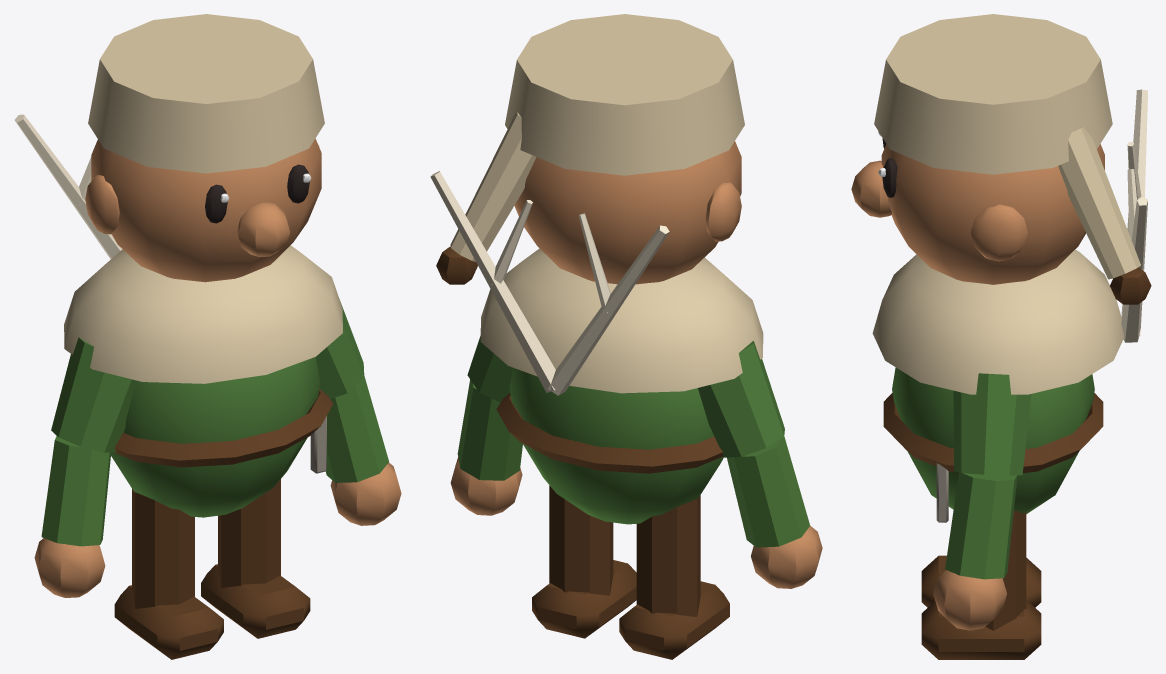
File: CH_Cust_23_Avci.fbx
3 views of the same model, side by side, from view 1: azimuth 30°, elevation 25°; view 2: azimuth 150°, elevation 25°; view 3: azimuth 270°, elevation 25° (orthographic).
Parts seen in each view (by area): view 1: CH_Cust_23_Avci; view 2: CH_Cust_23_Avci; view 3: CH_Cust_23_Avci.
Part boxes in pixels (x1,y1,x2,y2): CH_Cust_23_Avci: (14,14,401,659); CH_Cust_23_Avci: (430,14,822,659); CH_Cust_23_Avci: (851,14,1151,659).
Size of the model in its own units: 0.7012 by 1.05 by 0.503.
